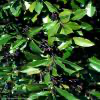Cherry leaf: (55, 57, 81, 77), (21, 59, 51, 72), (20, 52, 49, 62), (71, 36, 93, 48), (9, 38, 27, 50)
